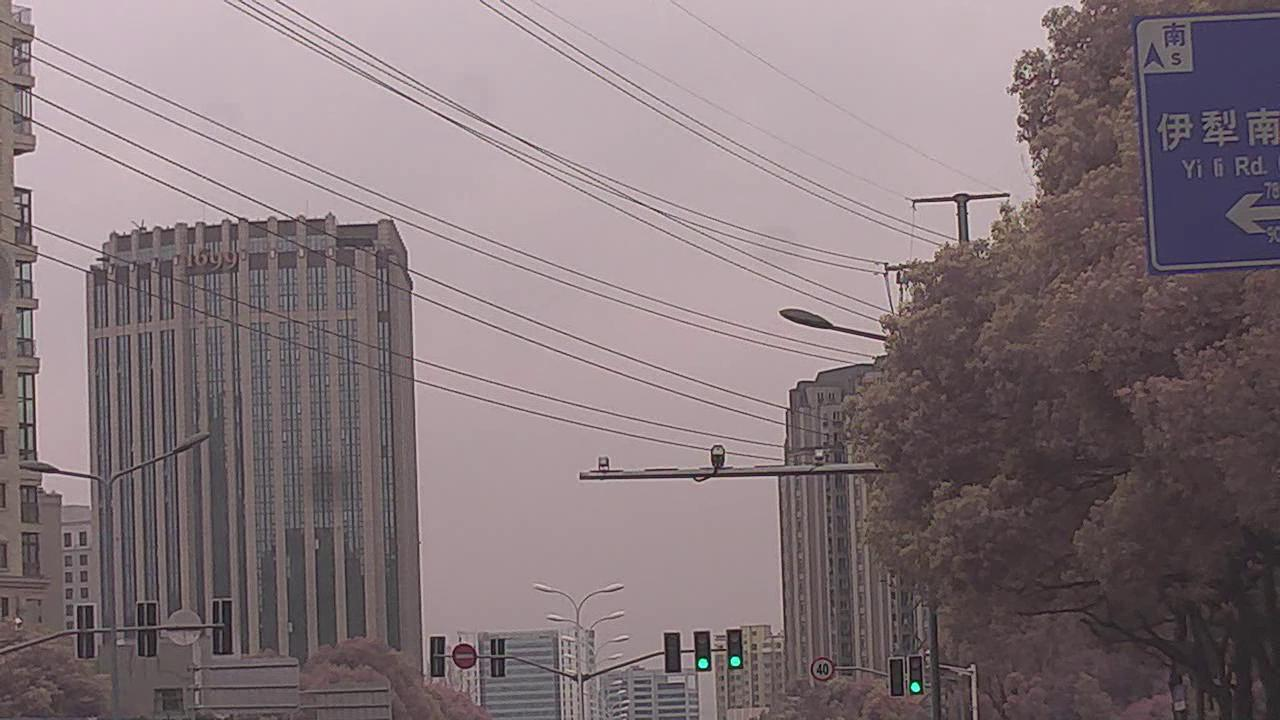traffic_light: (694, 631, 713, 675), (664, 633, 682, 673), (889, 656, 905, 697), (728, 628, 743, 671), (911, 654, 925, 695)
